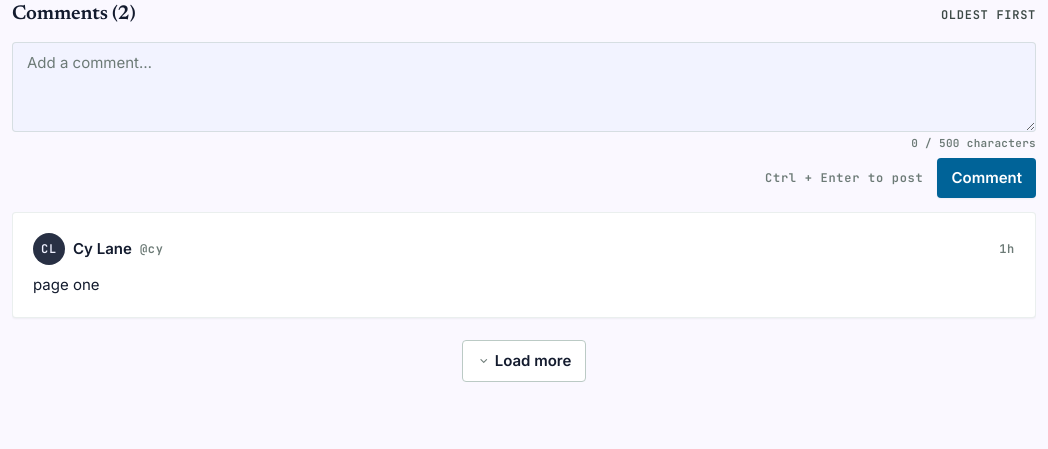
Test case: CommentSection › loads more comments below the first page
Expected: the text "page one" is shown, [33,275,100,294]
What coordinates should you click on to do the following:
click the button "Load more"
I would click on:
 (524, 361)
Its box is [462,340,586,382].
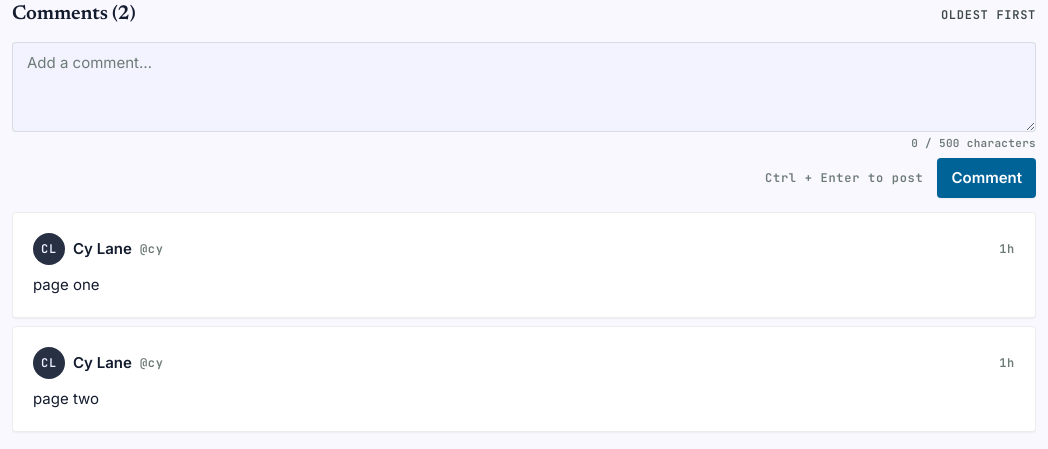
Expected: the text "page two" is shown, [33,389,99,408]
Expected: the button "Load more" is gone
